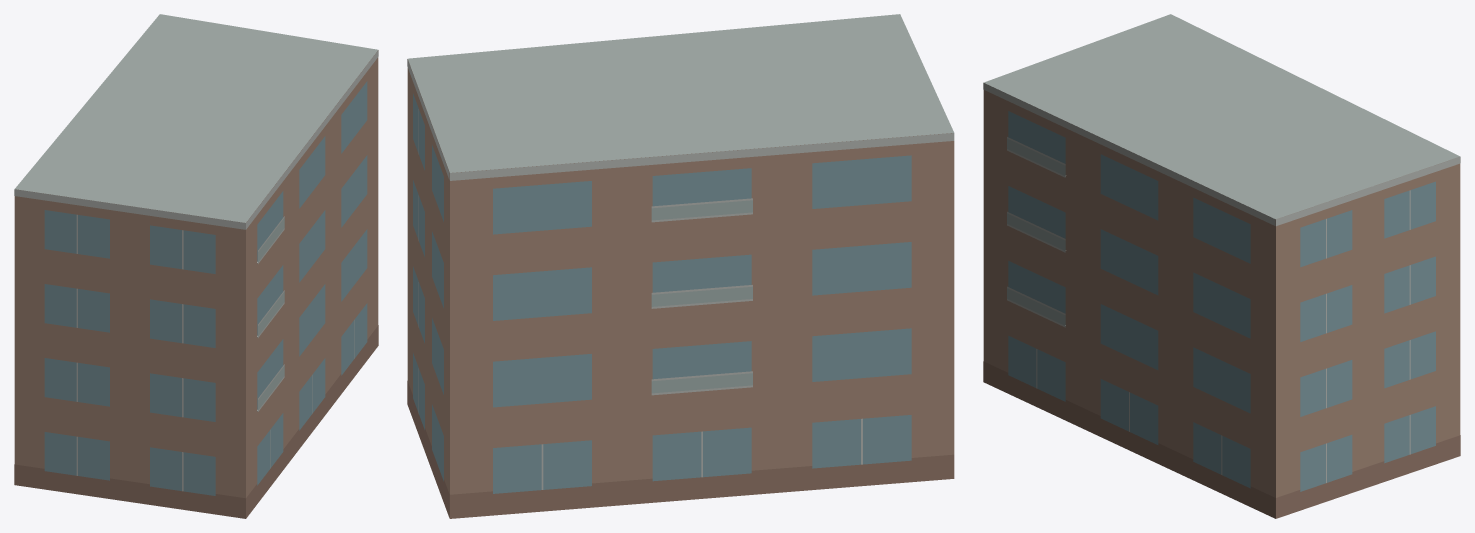
Rendered from survey-upis-33043836.glb.
The picture shows the model from 3 angles, left to right: view 1: azimuth 30°, elevation 25°; view 2: azimuth 150°, elevation 25°; view 3: azimuth 270°, elevation 25°; orthographic projection. The views are drawn at different scales.
Parts seen in each view (by area): view 1: survey-upis-33043836.tmp; view 2: survey-upis-33043836.tmp; view 3: survey-upis-33043836.tmp.
Boxes of the visible parts, x1,y1,x2,y2 form: survey-upis-33043836.tmp: (14, 14, 378, 518); survey-upis-33043836.tmp: (407, 14, 954, 518); survey-upis-33043836.tmp: (983, 14, 1460, 518).
Size of the model in its own units: 15.45 by 10.5 by 15.16.
